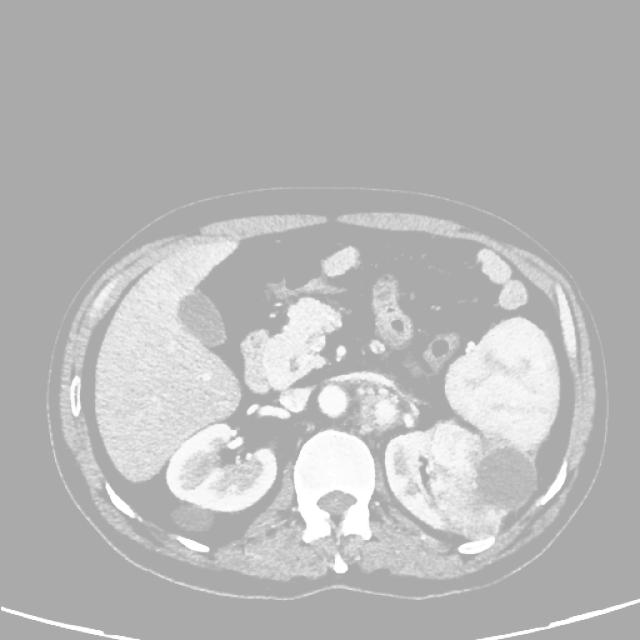TUMOR: (118, 225, 528, 522)
